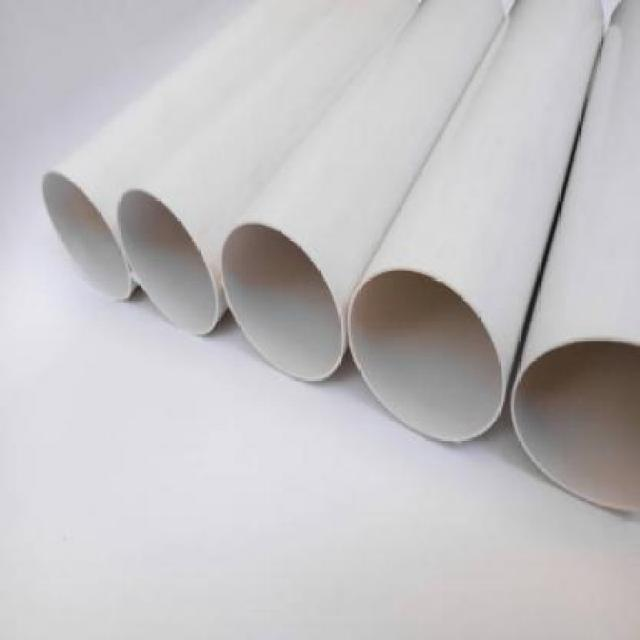pipe: (348, 268, 504, 442), (509, 337, 640, 512), (221, 221, 344, 381), (117, 189, 219, 335), (43, 168, 132, 301)
